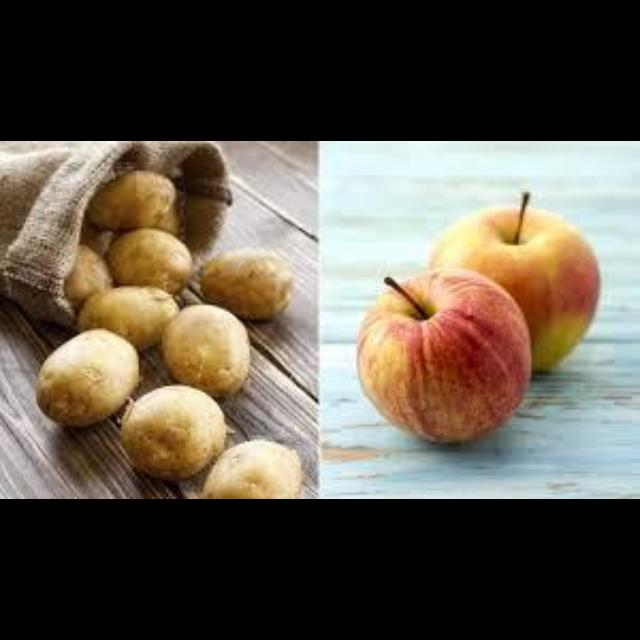apple: (429, 192, 597, 369), (356, 269, 529, 440)
